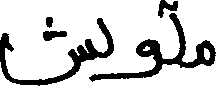ش: (0, 14, 95, 83)
ل: (169, 0, 186, 69), (95, 15, 112, 65)
م: (194, 38, 214, 67)
و: (134, 34, 160, 78)
